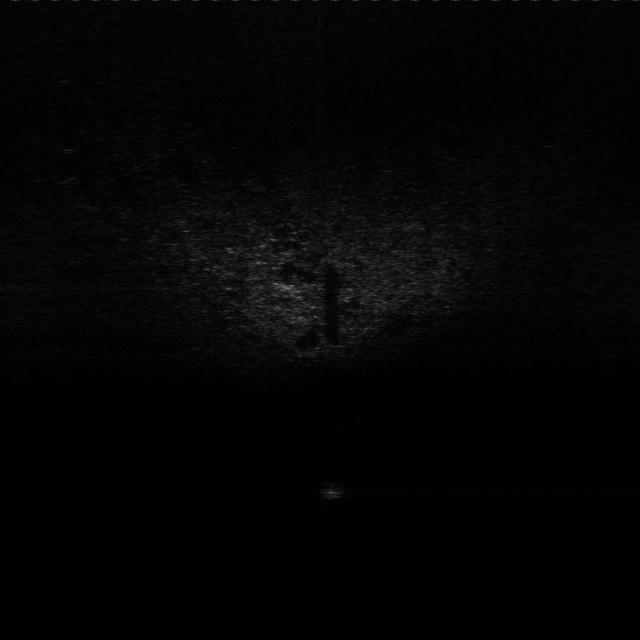cylinder: (317, 478, 351, 501)
